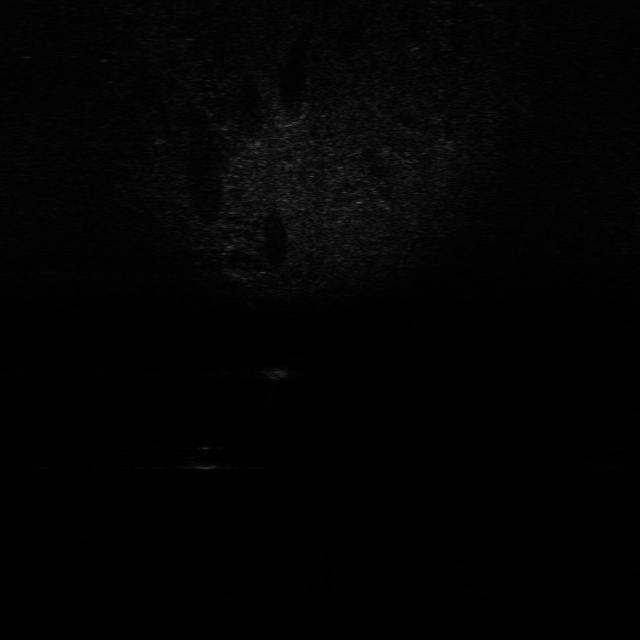ball: (186, 441, 222, 472)
cube: (260, 358, 294, 384)
